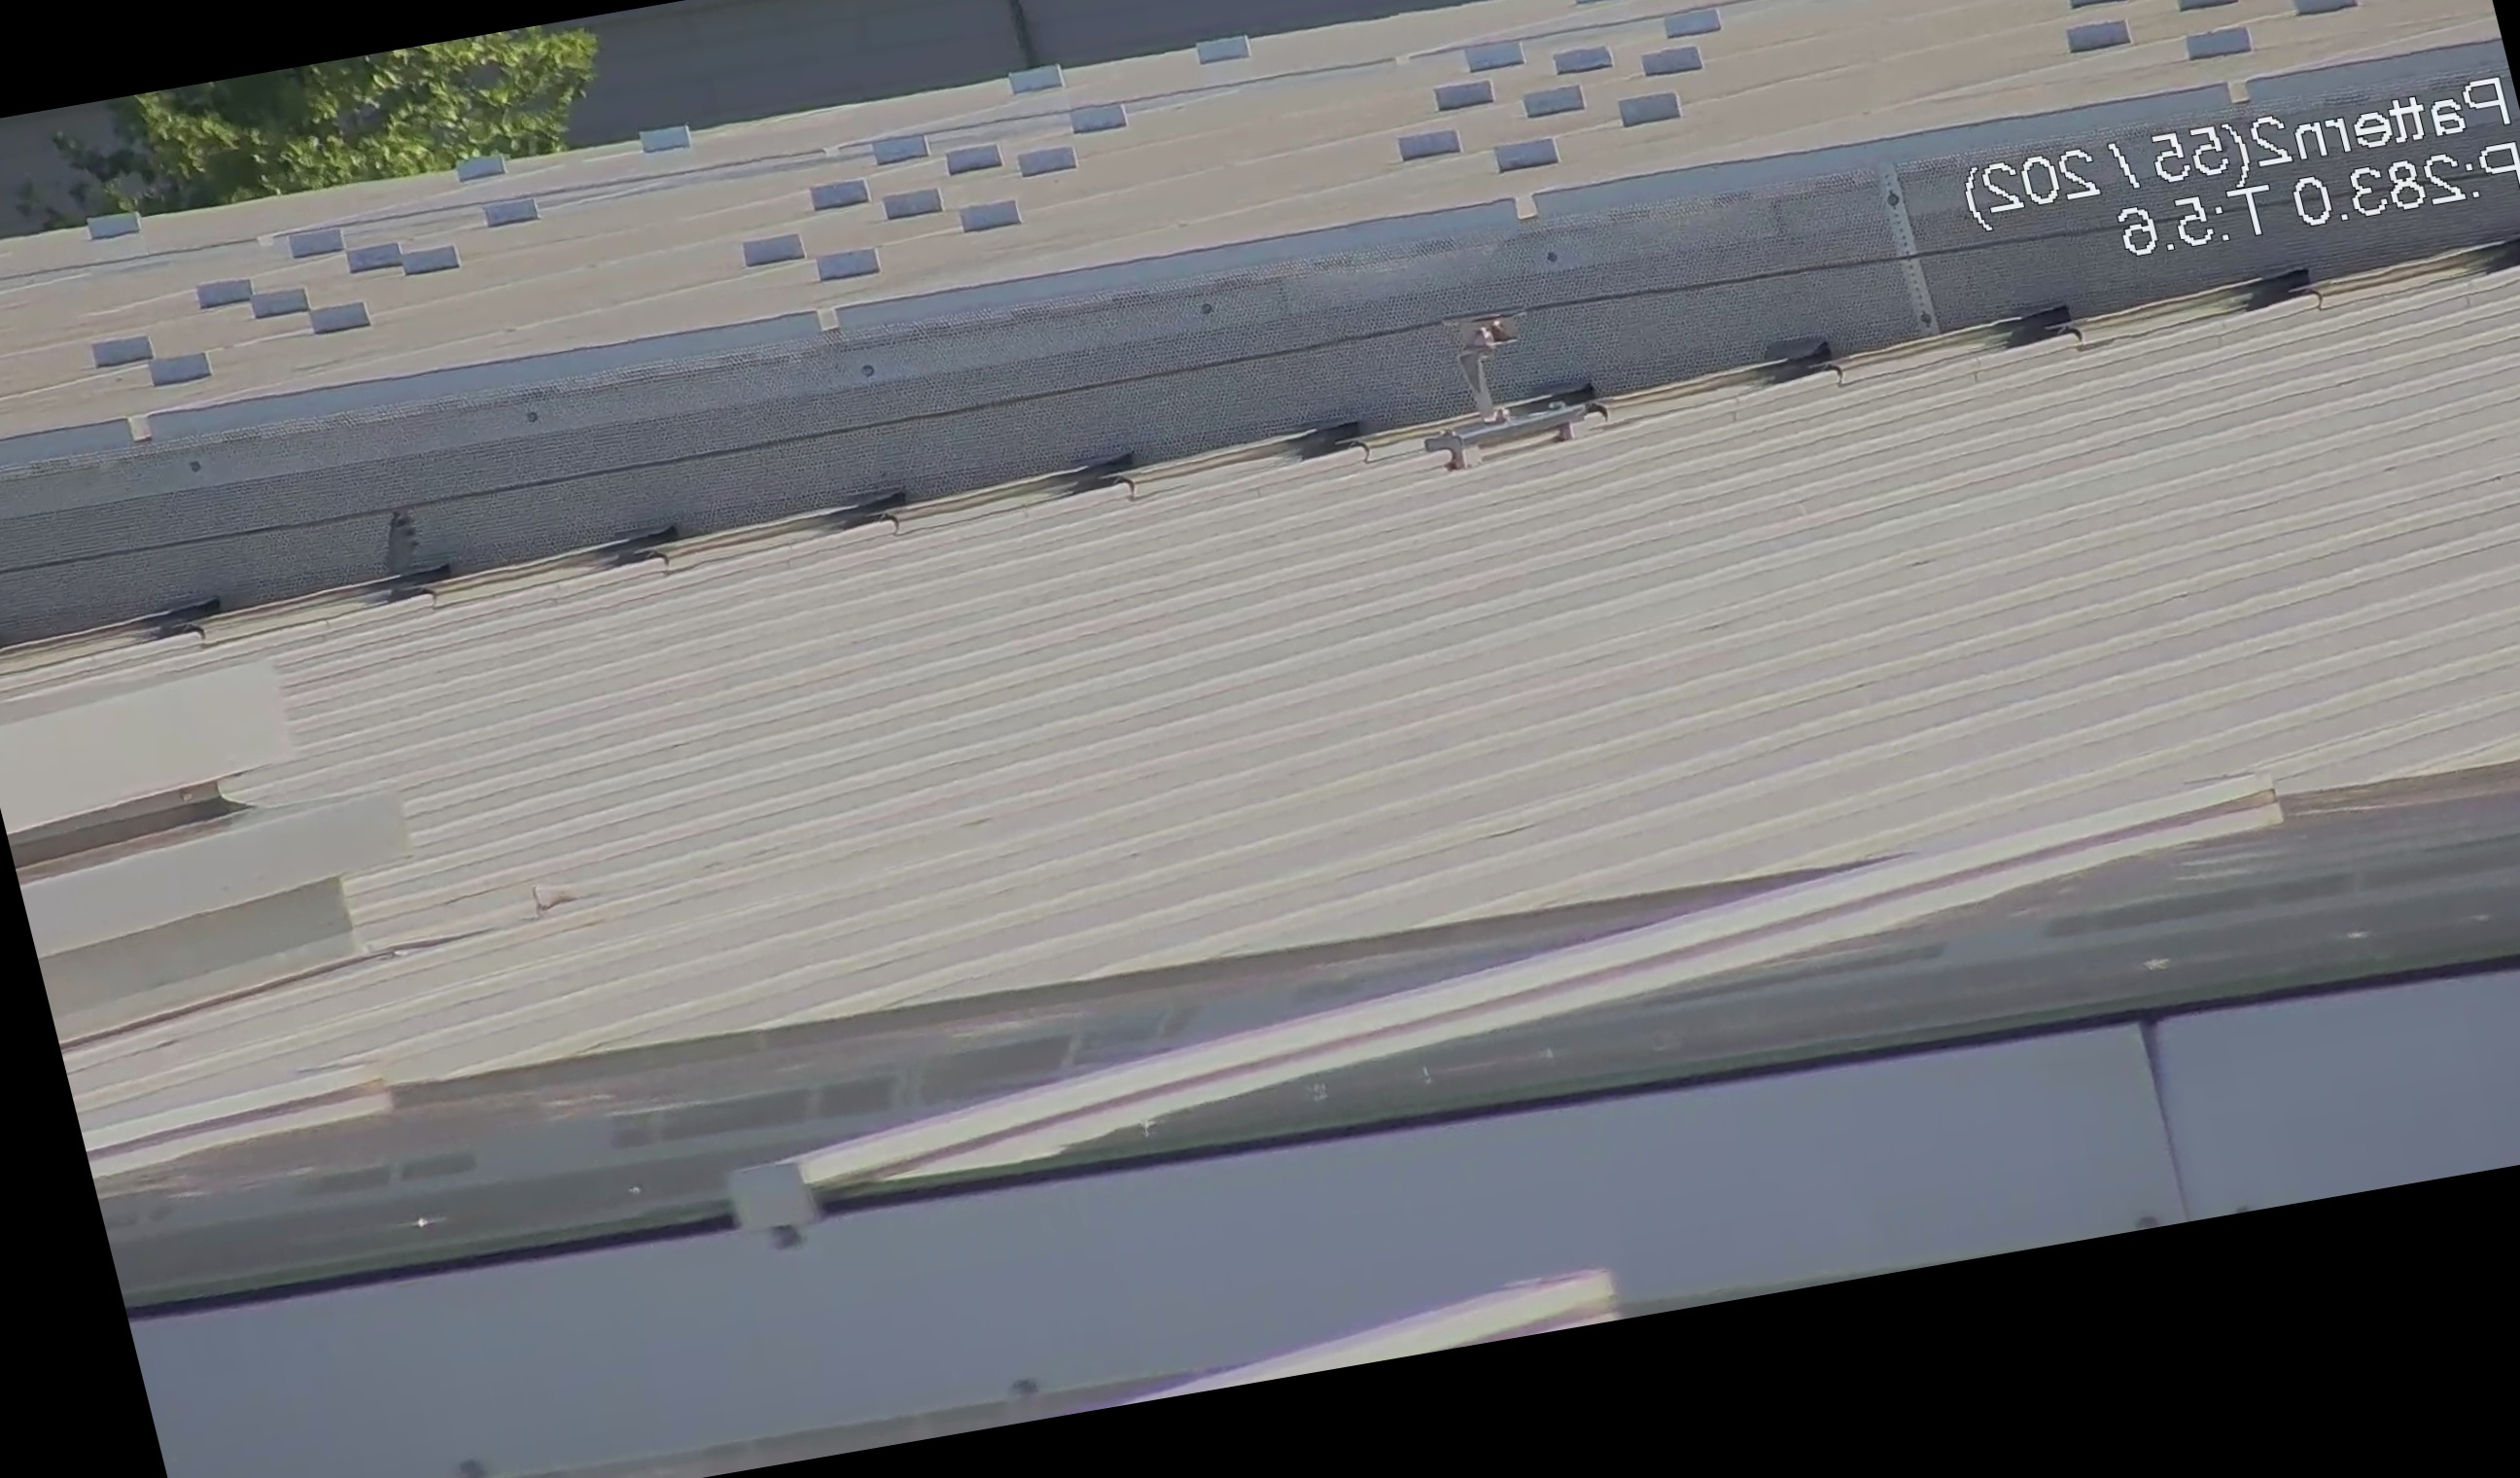Other: (327, 482, 448, 612)
